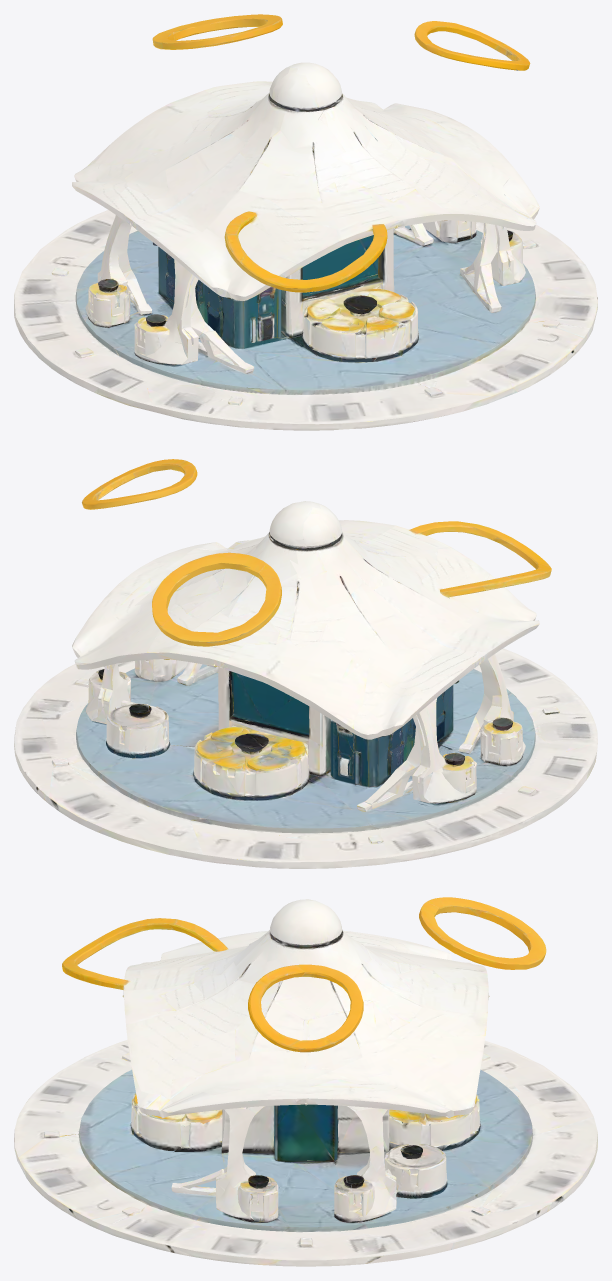
File: bld-holo-market-v2.glb
3 views of the same model, one above another, from view 1: azimuth 30°, elevation 25°; view 2: azimuth 150°, elevation 25°; view 3: azimuth 270°, elevation 25° (orthographic).
Parts seen in each view (by area): view 1: Mesh_0; view 2: Mesh_0; view 3: Mesh_0.
Part boxes in pixels (x1,y1,x2,y2): Mesh_0: (14, 14, 597, 430); Mesh_0: (14, 459, 597, 868); Mesh_0: (14, 897, 597, 1266).
Size of the model in its own units: 1.9 by 0.8656 by 1.9.
Materials: 1 (1 with a texture image).
